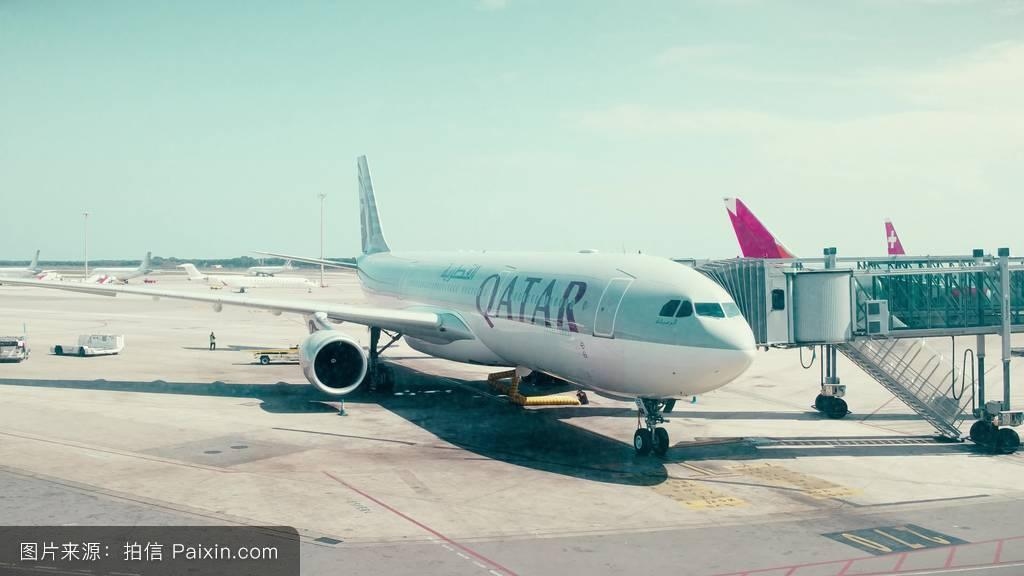airplane: (56, 154, 762, 484)
